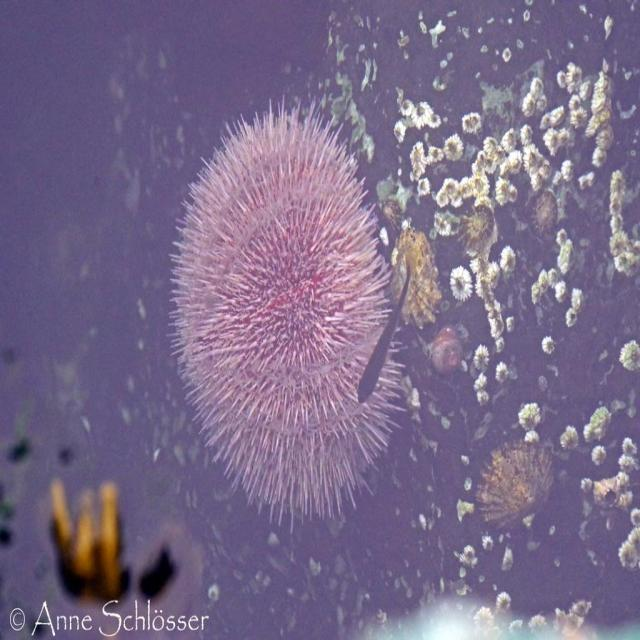Deniz Kestanesi: (166, 100, 407, 534)
